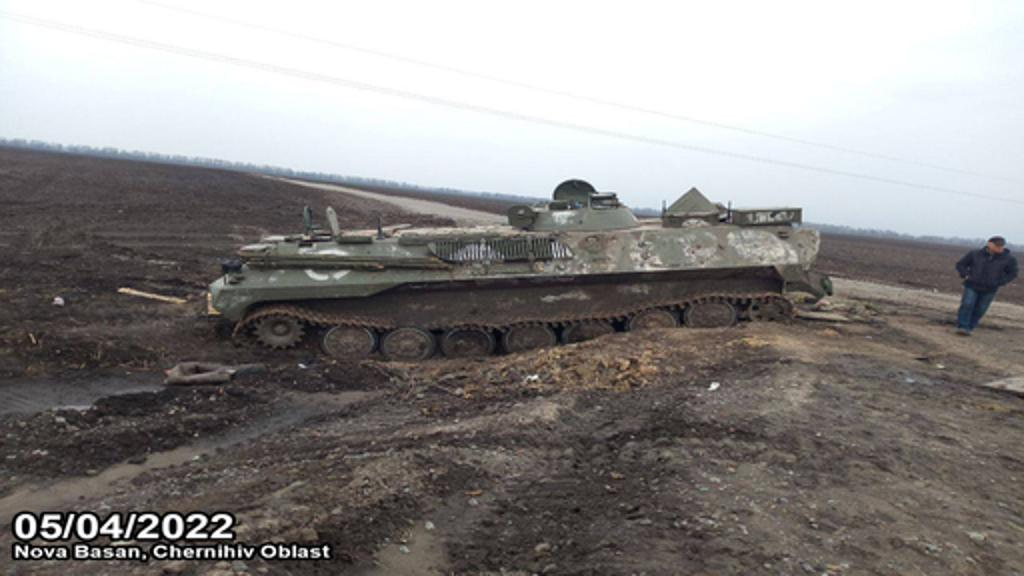APC-IFV: (206, 176, 828, 366)
